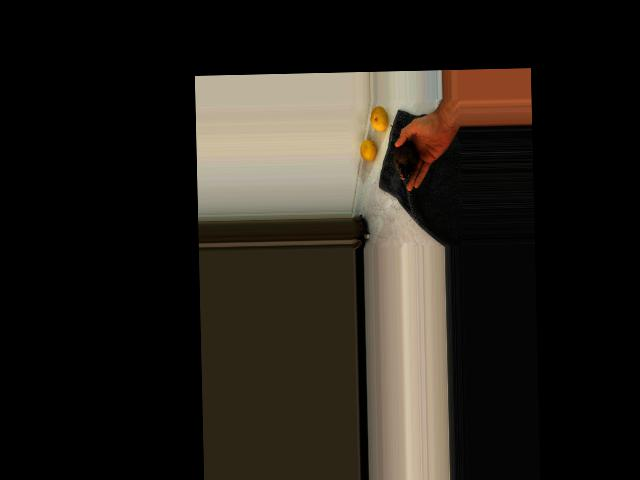beet: (390, 124, 419, 178)
